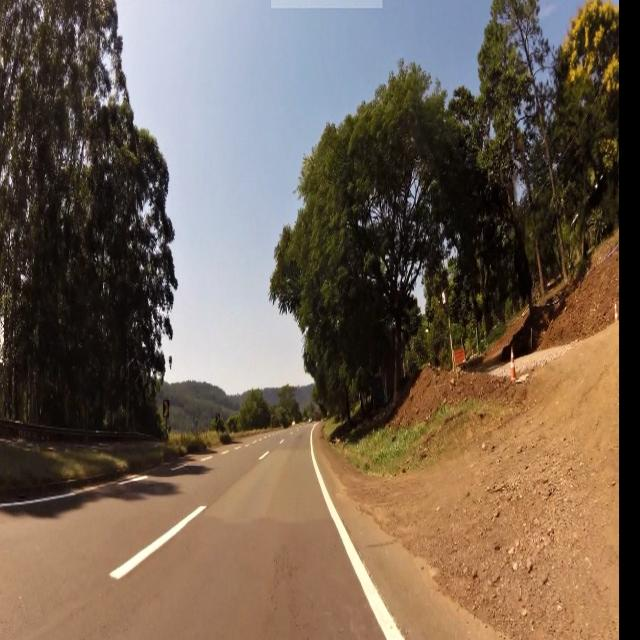Del: (164, 402, 170, 421)
